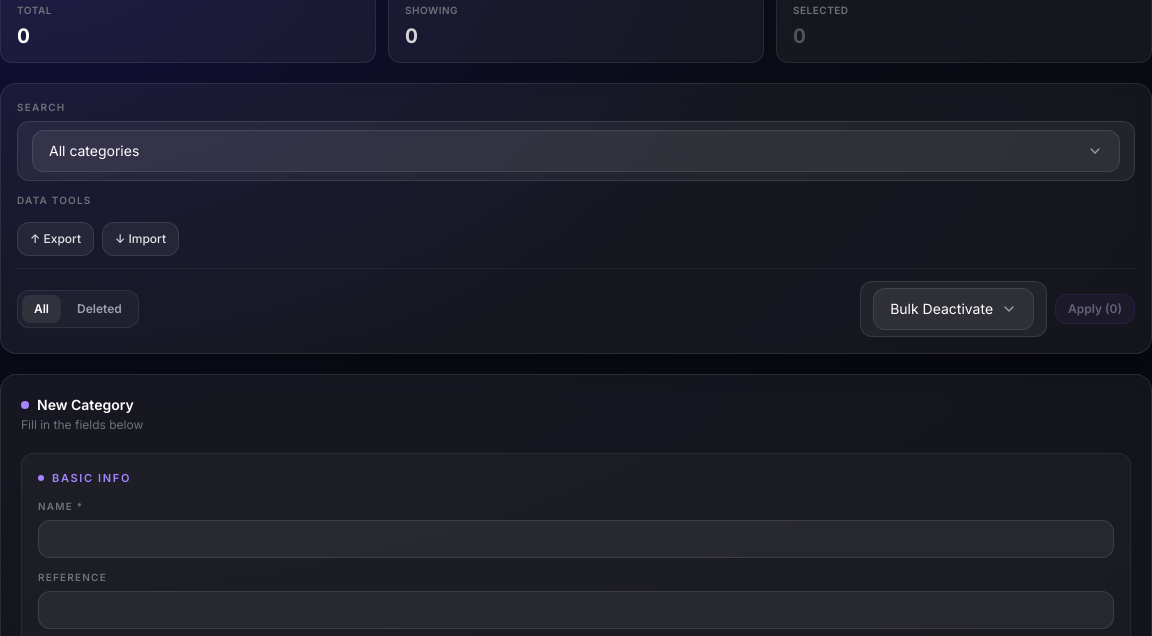
Scenario: MenuCategoriesPage — create form › shows error banner when create API fails
Type "Rolls" into the field below "Name *". click: (576, 538)
box: left=38, top=520, right=1114, bottom=558
(page scrolled)
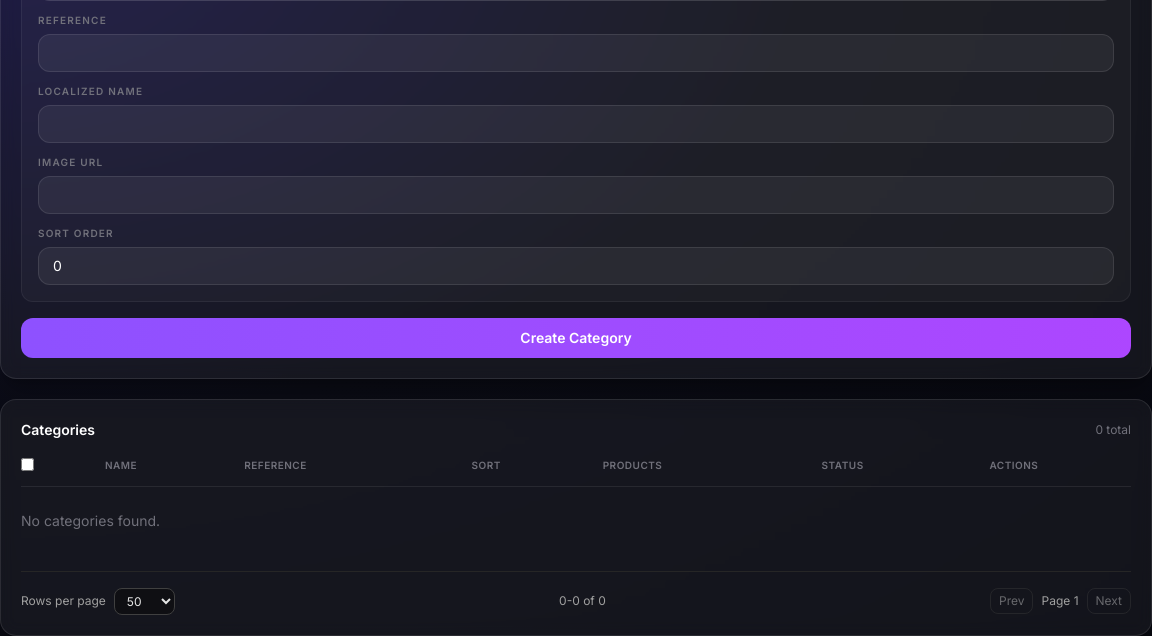
Click the button "Create Category". click: (576, 338)
box: left=21, top=318, right=1131, bottom=358
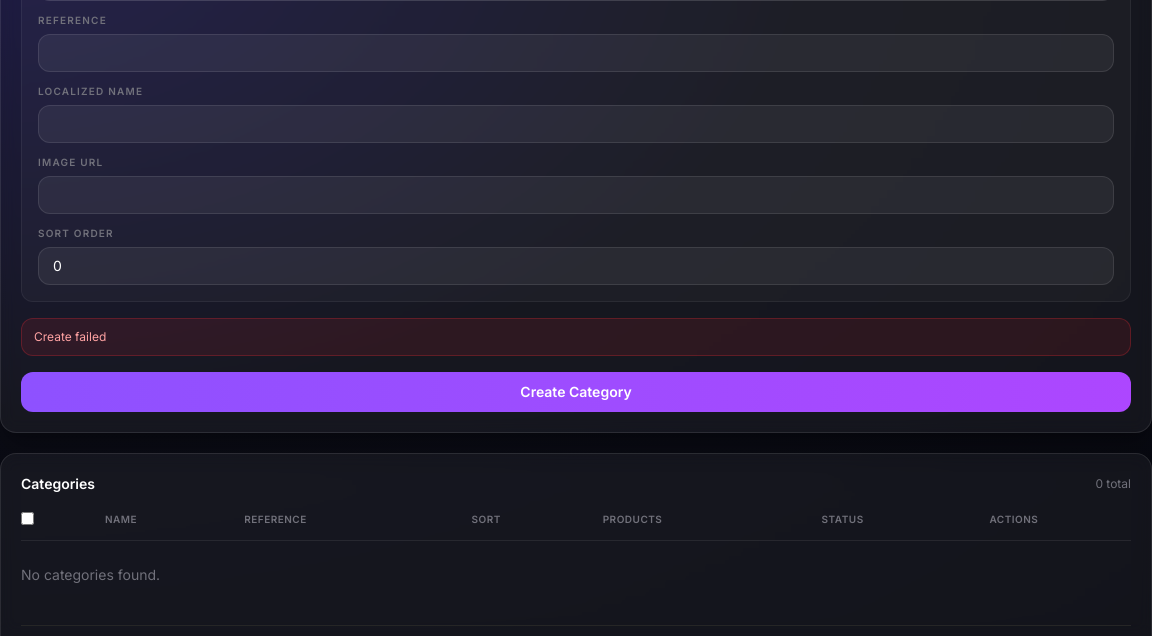
Expected: the text "Create failed" is shown, left=21, top=318, right=1131, bottom=356
